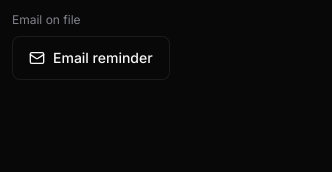
Test: Reminder action delivery state › submits just one ride id and confirms success
What coordinates should you click on to do the following:
click the button
I would click on:
 (91, 58)
Its box is [12,36,170,80].
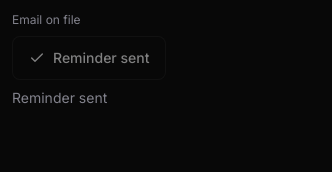
Expected: the button is disabled, [12,36,166,80]
